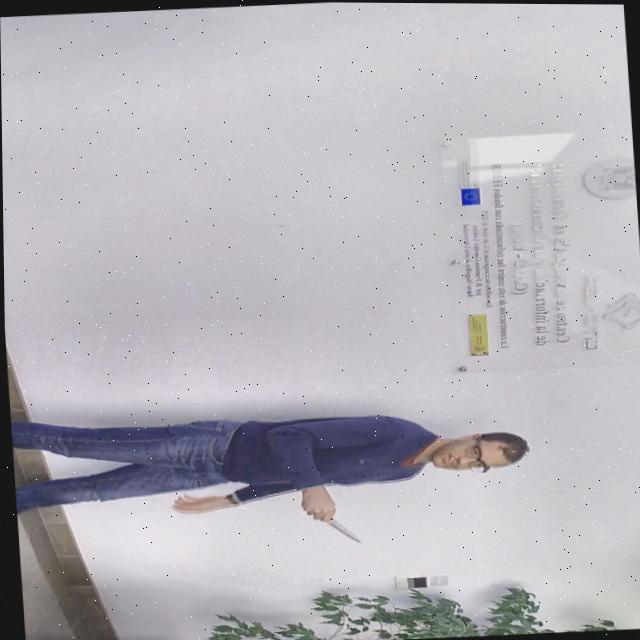knife: (325, 515, 372, 545)
